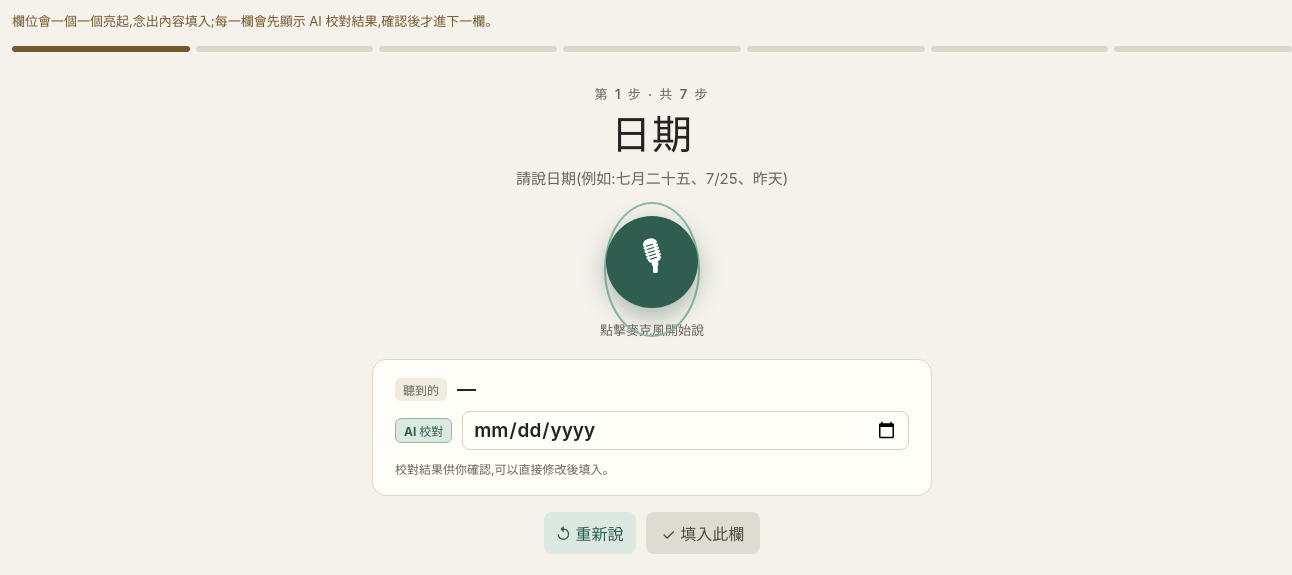
ModeBPanel › corrects a spoken field through the per-field AI prompt
Step 1. Click the button named "用說的" → (652, 262), box [606,216,698,308]
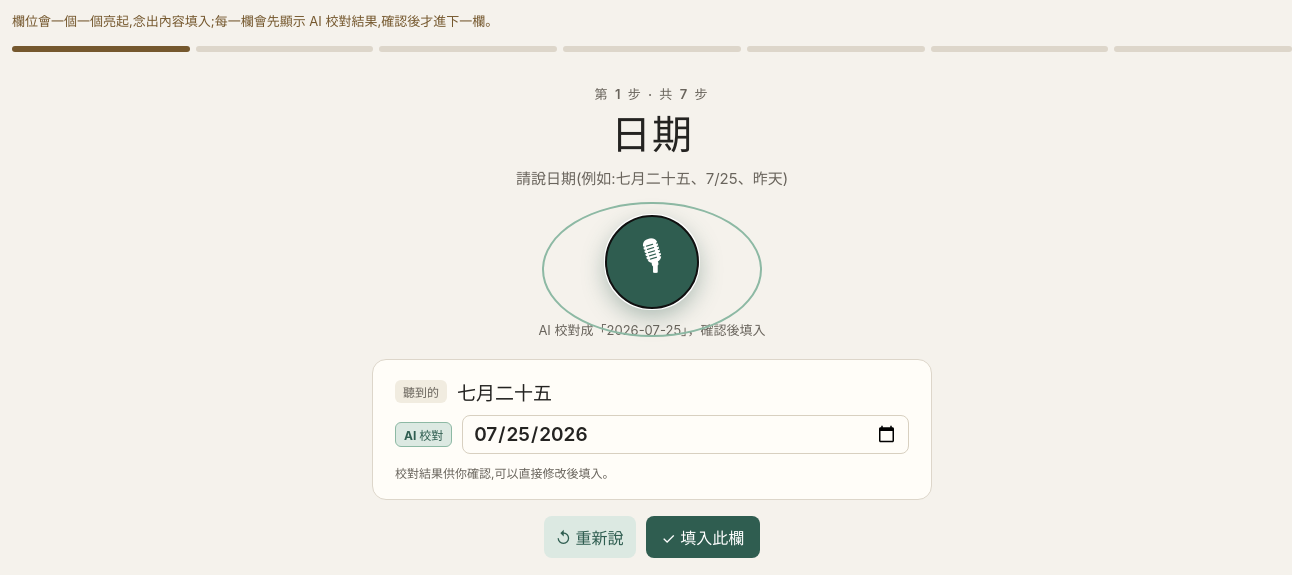
Check: the date field named "日期" holds "2026-07-25", box [462,415,909,454]
Check: the text "七月二十五" is shown, box [457,378,552,405]
